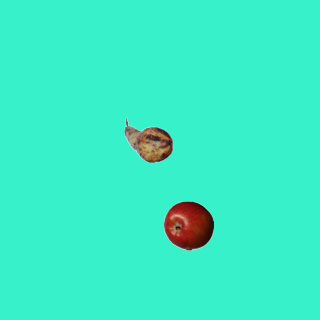Apple Braeburn: (163, 200, 213, 250)
Pear Abate: (123, 115, 173, 165)
